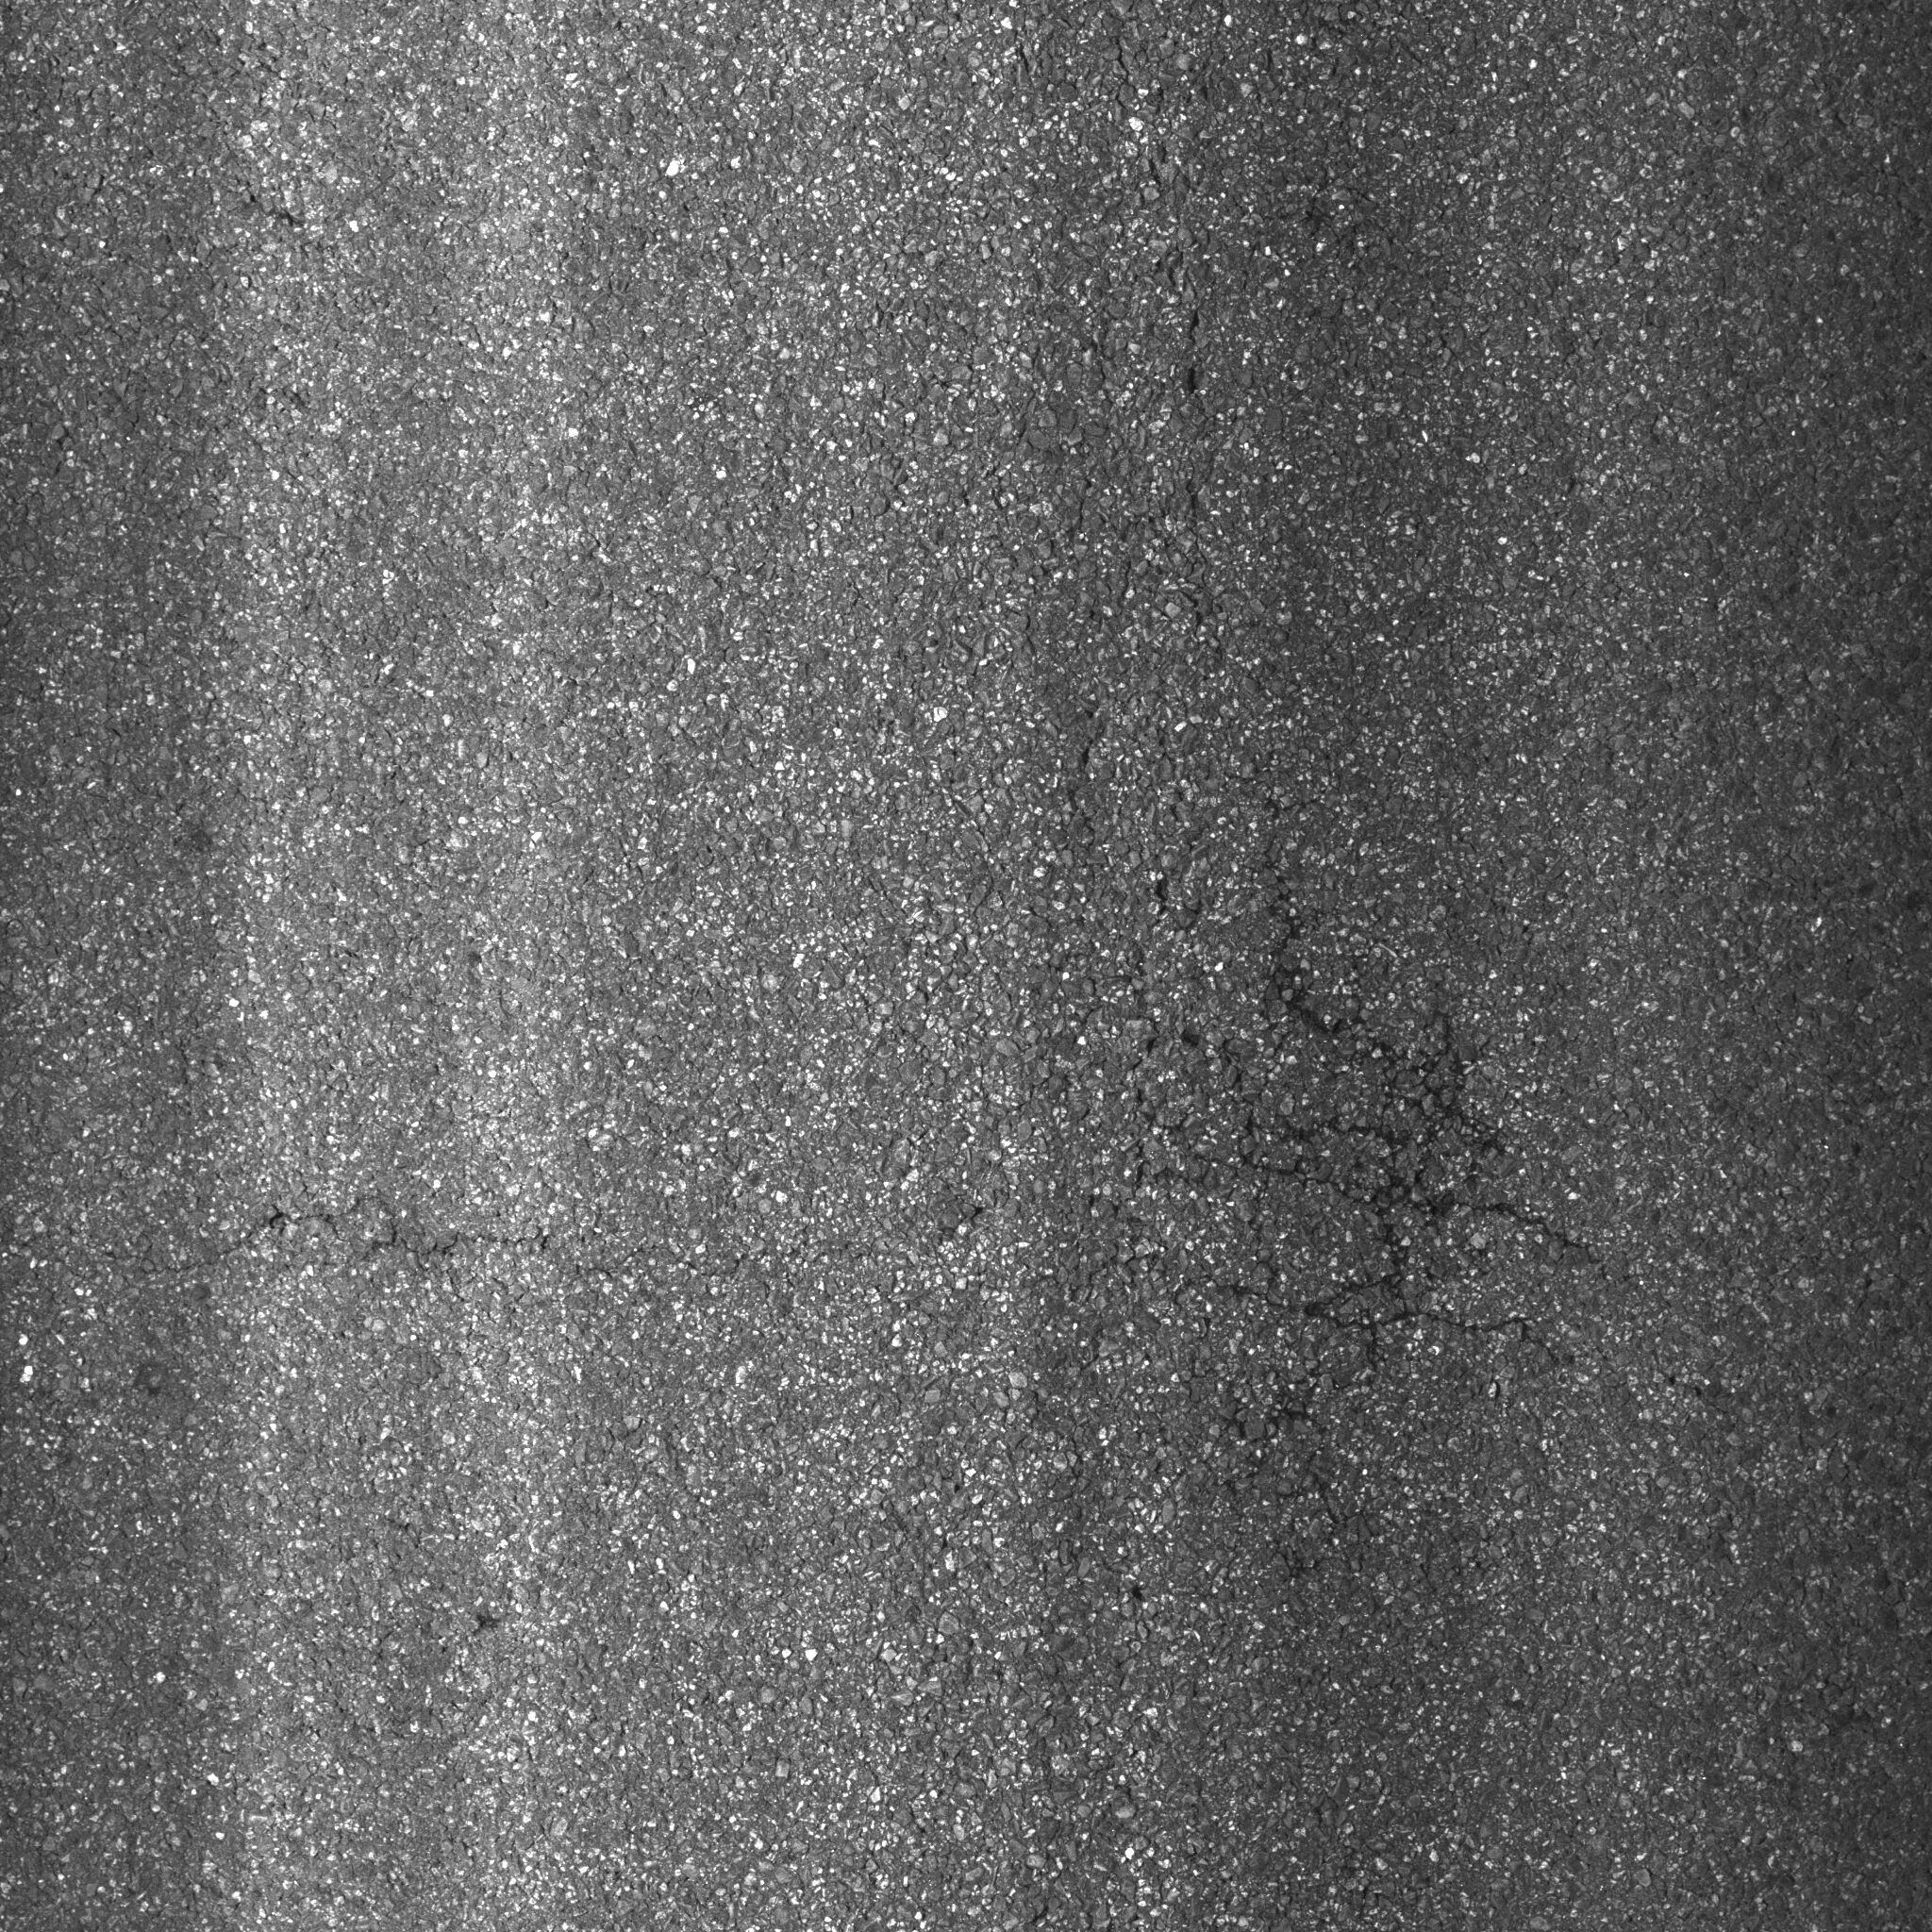alligator: (918, 603, 1704, 1569)
